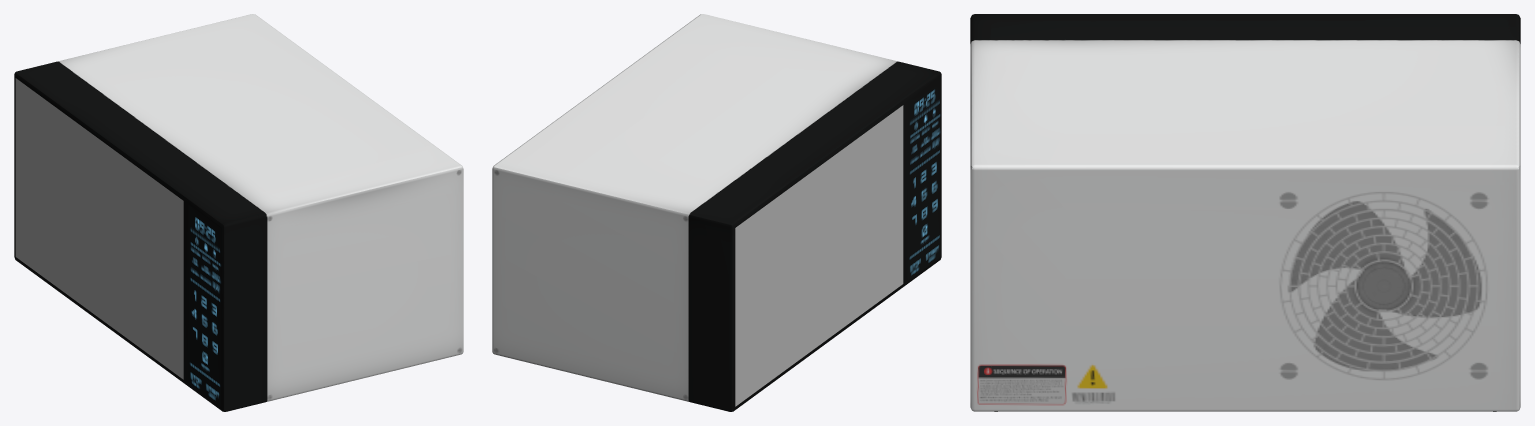
The model's file is SM_MicrowaveS.fbx.
3 renders of one model, left to right at view 1: azimuth 30°, elevation 25°; view 2: azimuth 150°, elevation 25°; view 3: azimuth 270°, elevation 25°, orthographic. The views are drawn at different scales.
Visible parts, largest first — view 1: SM_MicrowaveS_LOD0; view 2: SM_MicrowaveS_LOD0; view 3: SM_MicrowaveS_LOD0.
Part boxes in pixels (left/top/right/bottom): SM_MicrowaveS_LOD0: left=14, top=14, right=463, bottom=411; SM_MicrowaveS_LOD0: left=492, top=14, right=941, bottom=411; SM_MicrowaveS_LOD0: left=970, top=14, right=1520, bottom=411.
Size of the model in its own units: 48.32 by 72.88 by 36.76.
2 materials, 1 textured.
